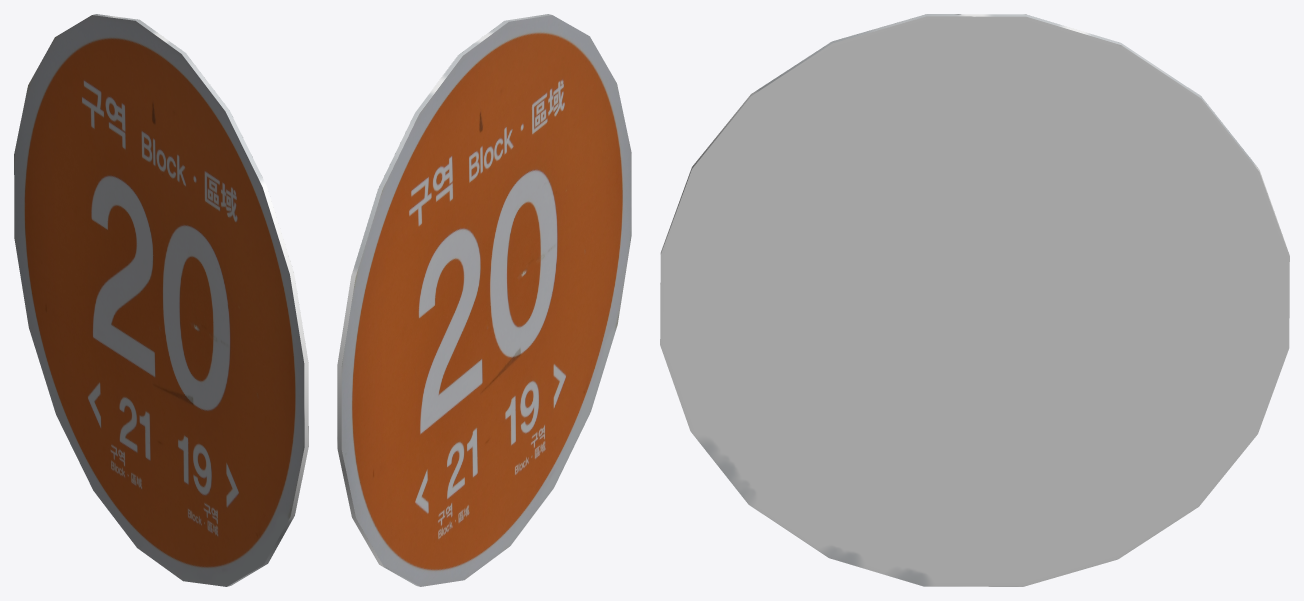
File: SM_018_Seat_10_3.fbx
3 views of the same model, side by side, from view 1: azimuth 30°, elevation 25°; view 2: azimuth 150°, elevation 25°; view 3: azimuth 270°, elevation 25° (orthographic). The views are drawn at different scales.
Visible parts, largest first — view 1: SM_018_Seat_10_3; view 2: SM_018_Seat_10_3; view 3: SM_018_Seat_10_3.
Boxes of the visible parts, <box> form: SM_018_Seat_10_3: <box>14,14,308,586</box>; SM_018_Seat_10_3: <box>337,14,631,586</box>; SM_018_Seat_10_3: <box>660,14,1289,586</box>.
Bounding box in the file's own units: 0.3841 × 44.73 × 44.73.
1 material, 1 textured.
